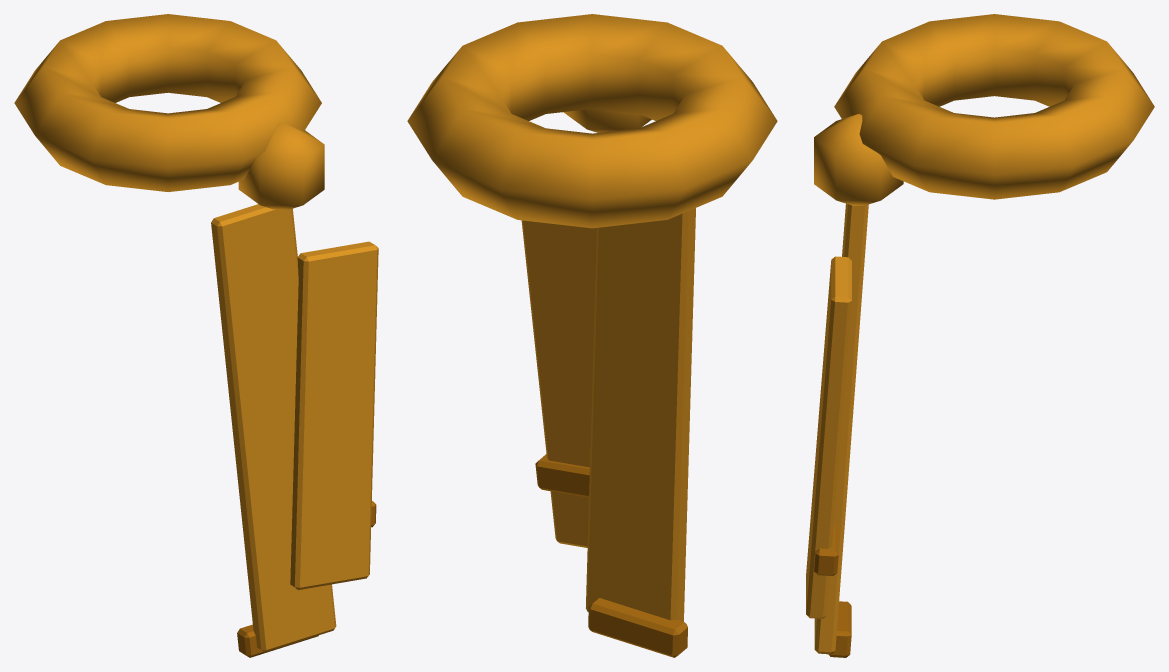
The model's file is npc_scarf_amber.glb.
3 renders of one model, left to right at view 1: azimuth 30°, elevation 25°; view 2: azimuth 150°, elevation 25°; view 3: azimuth 270°, elevation 25°, orthographic. The views are drawn at different scales.
Visible parts, largest first — view 1: part.npc_scarf_amber; view 2: part.npc_scarf_amber; view 3: part.npc_scarf_amber.
Boxes of the visible parts, x1,y1,x2,y2 form: part.npc_scarf_amber: (14, 14, 378, 657); part.npc_scarf_amber: (407, 14, 777, 657); part.npc_scarf_amber: (806, 14, 1154, 657).
Size of the model in its own units: 0.2486 by 0.4759 by 0.2697.
